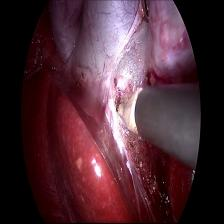Hook: (112, 82, 145, 140)
